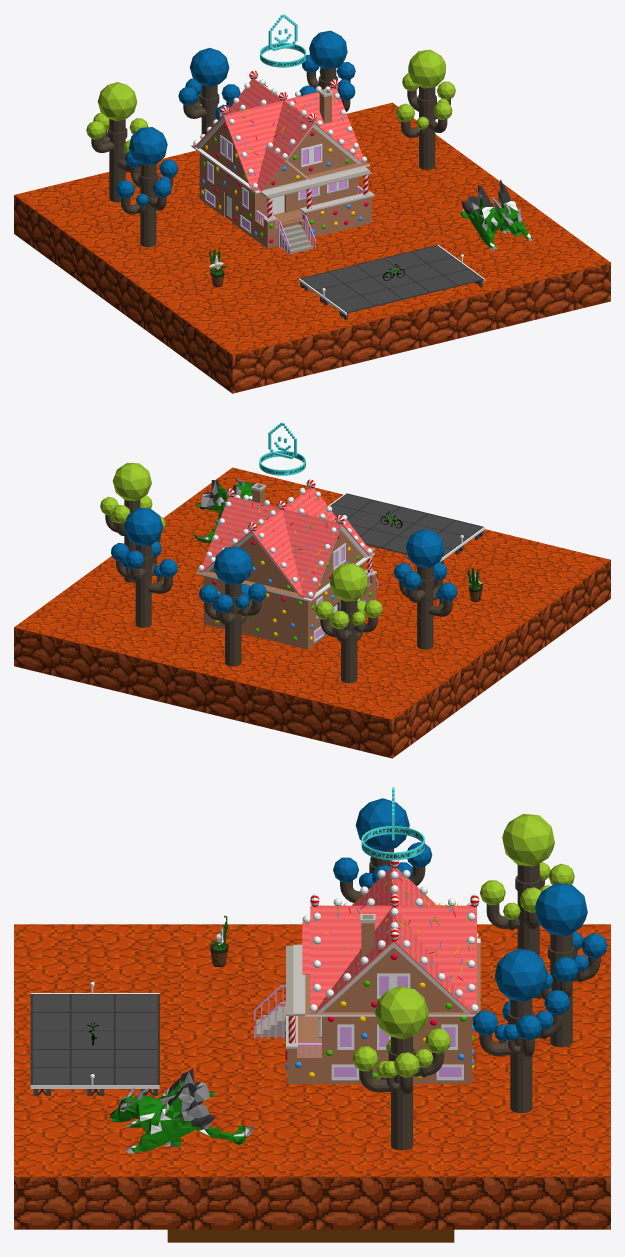
3 views of the same model, one above another, from view 1: azimuth 30°, elevation 25°; view 2: azimuth 150°, elevation 25°; view 3: azimuth 270°, elevation 25° (orthographic). The views are drawn at different scales.
Visible parts, largest first — view 1: Cube.001, Cube.1203, ANIMAL_DRAGON, TYPE_PREMIUM; view 2: Cube.001, Cube.1203, ANIMAL_DRAGON, TYPE_PREMIUM; view 3: Cube.001, Cube.1203, ANIMAL_DRAGON, UNDERGROUND_ART_PIECE_VAN_GOGH, TYPE_PREMIUM.
Part boxes in pixels (left/top/right/bottom): Cube.001: left=14, top=30, right=610, bottom=393; Cube.1203: left=191, top=70, right=374, bottom=255; ANIMAL_DRAGON: left=460, top=179, right=534, bottom=250; TYPE_PREMIUM: left=260, top=14, right=306, bottom=67; Cube.001: left=14, top=462, right=610, bottom=758; Cube.1203: left=196, top=479, right=378, bottom=649; ANIMAL_DRAGON: left=194, top=478, right=254, bottom=543; TYPE_PREMIUM: left=259, top=422, right=305, bottom=475; Cube.001: left=14, top=798, right=610, bottom=1229; Cube.1203: left=254, top=860, right=480, bottom=1083; ANIMAL_DRAGON: left=109, top=1068, right=253, bottom=1153; UNDERGROUND_ART_PIECE_VAN_GOGH: left=167, top=1229, right=454, bottom=1242; TYPE_PREMIUM: left=361, top=787, right=424, bottom=860.
Bounding box in the file's own units: 4000 × 2536 × 4000.
Materials: 44 (7 with a texture image).
